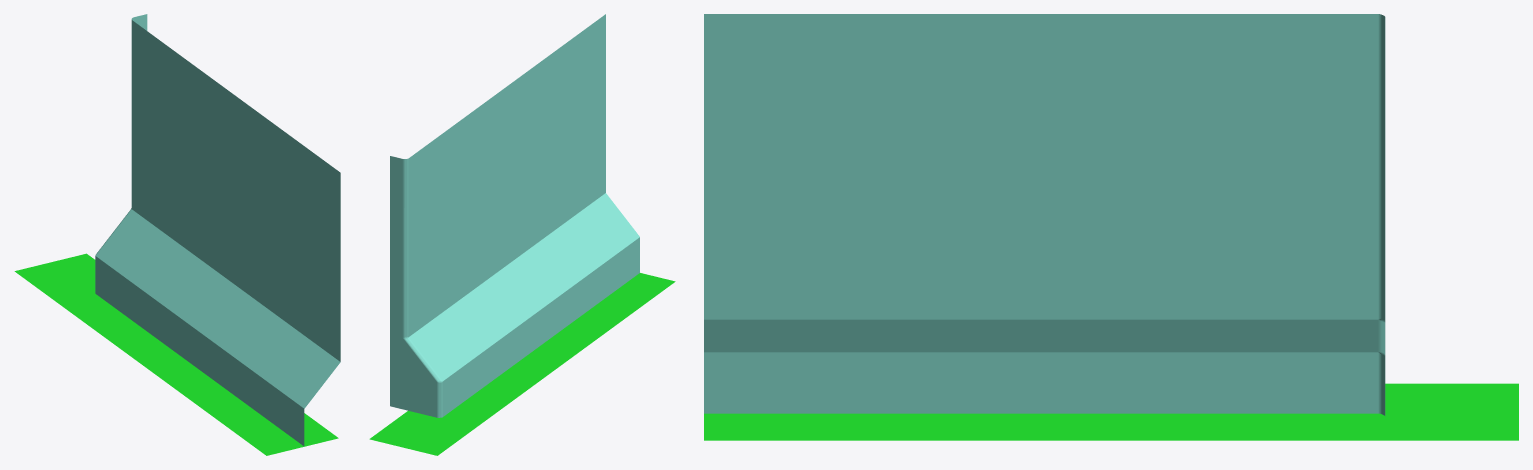
The model's file is Extra_Wall_V2.fbx.
3 renders of one model, left to right at view 1: azimuth 30°, elevation 25°; view 2: azimuth 150°, elevation 25°; view 3: azimuth 270°, elevation 25°, orthographic. The views are drawn at different scales.
Visible parts, largest first — view 1: Wall.006; view 2: Wall.006; view 3: Wall.006.
Part boxes in pixels (x1=…): Wall.006: x1=14, y1=14, x2=340, y2=455; Wall.006: x1=369, y1=14, x2=675, y2=455; Wall.006: x1=704, y1=14, x2=1518, y2=440.
Bounding box in the file's own units: 253 × 700 × 1207.
